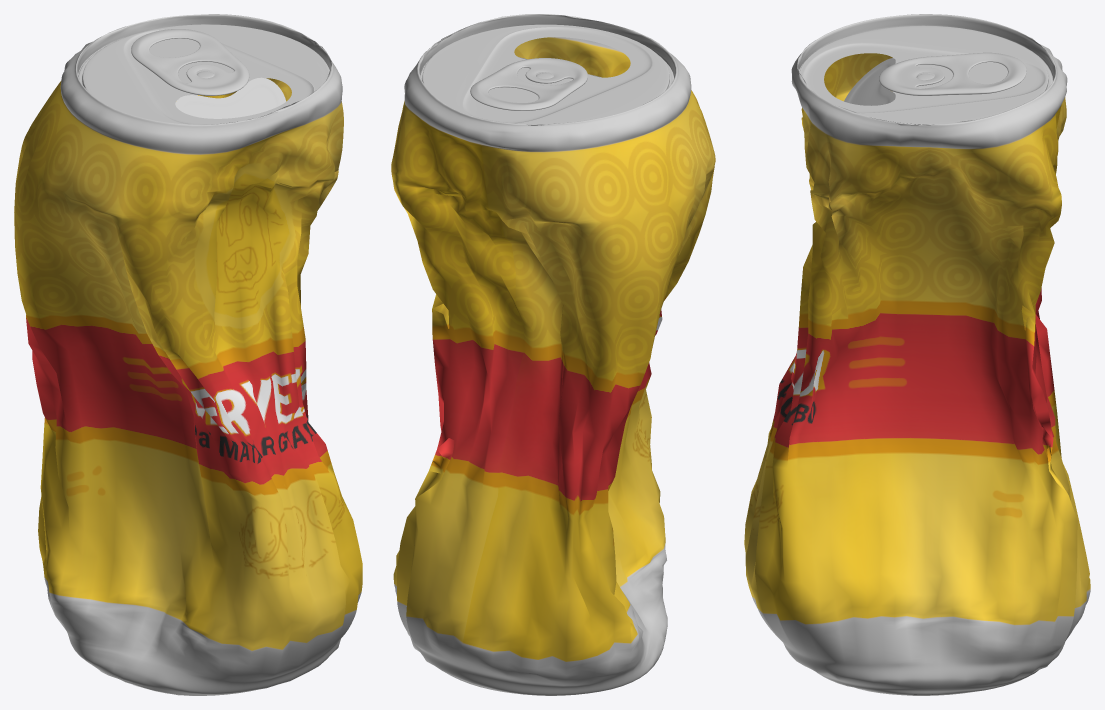
File: Lata_Aluminio_02.fbx
The picture shows the model from 3 angles, left to right: view 1: azimuth 30°, elevation 25°; view 2: azimuth 150°, elevation 25°; view 3: azimuth 270°, elevation 25°; orthographic projection.
Visible parts, largest first — view 1: Geo_Lata.001; view 2: Geo_Lata.001; view 3: Geo_Lata.001.
Part boxes in pixels (box(x1,y1,x2,y2)): Geo_Lata.001: box(14, 14, 362, 695); Geo_Lata.001: box(391, 14, 715, 695); Geo_Lata.001: box(744, 14, 1090, 695).
Size of the model in its own units: 0.0555 by 0.1144 by 0.0613.
